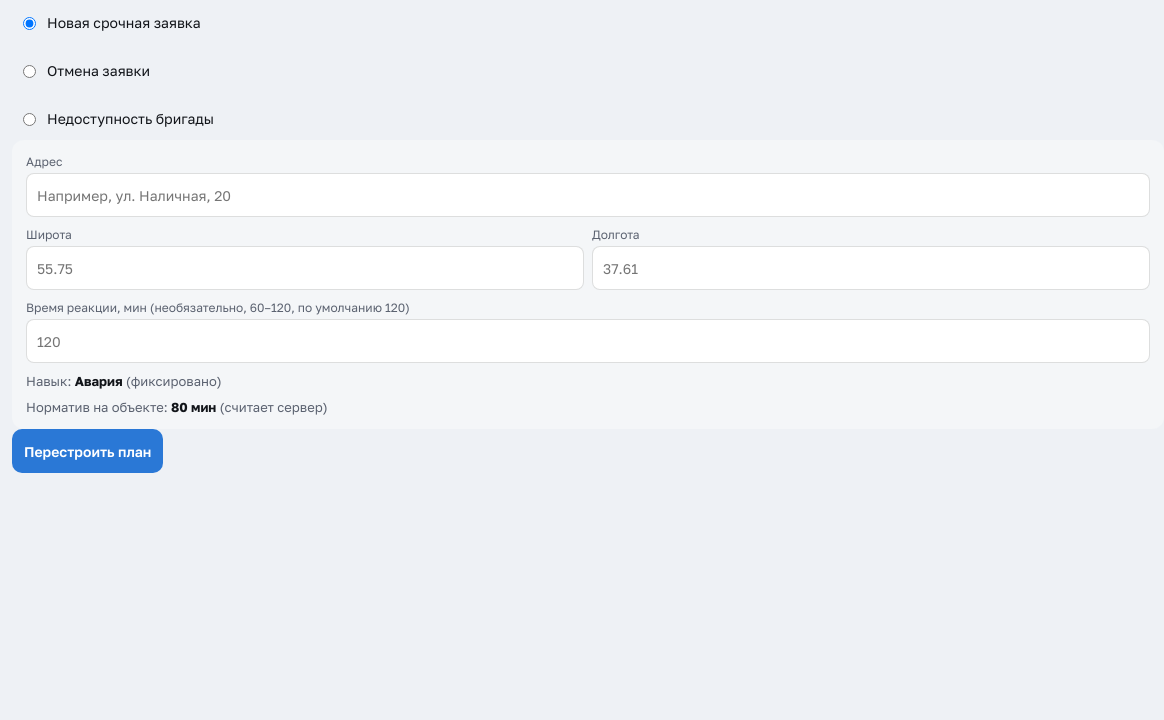
Test: ReplanTab — engineer_unavailable › shows a 404 as "not found" when the engineer does not exist
This screenshot has width=1164, height=720.
Click the radio button labelled "Недоступность бригады". click: (30, 120)
box: [23,113,36,126]
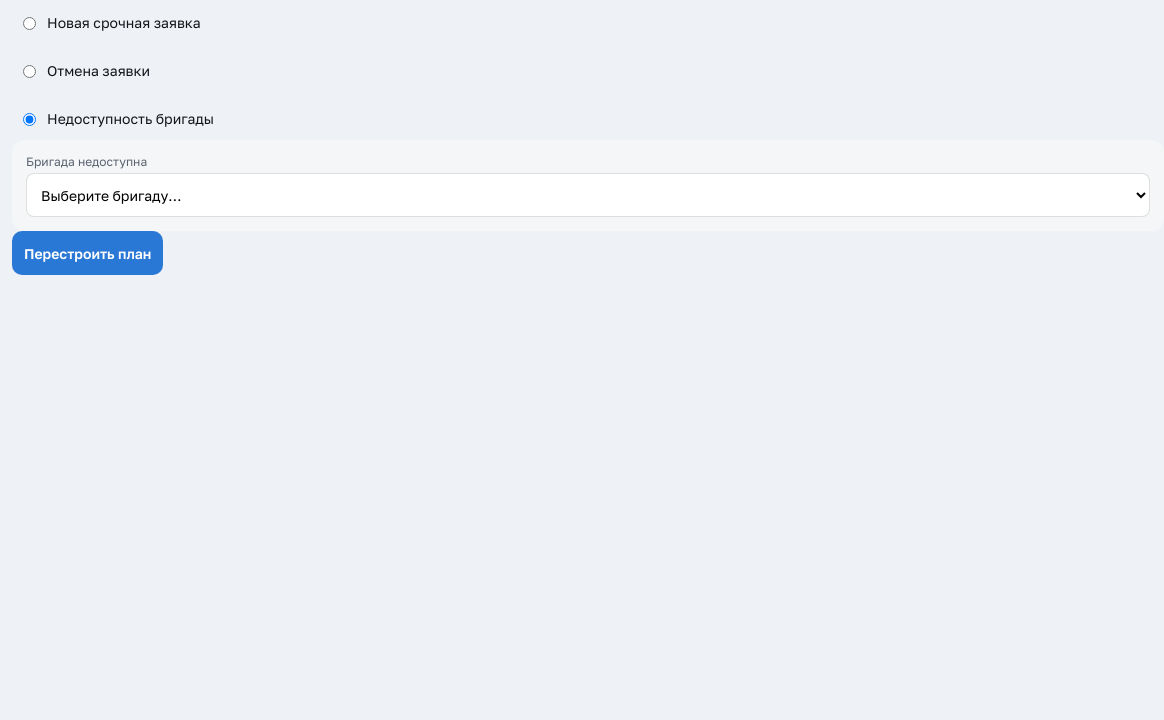
Select "Бригада Соколов" in the dropdown labelled "Бригада недоступна". click: (588, 195)
box: [26,173,1150,217]
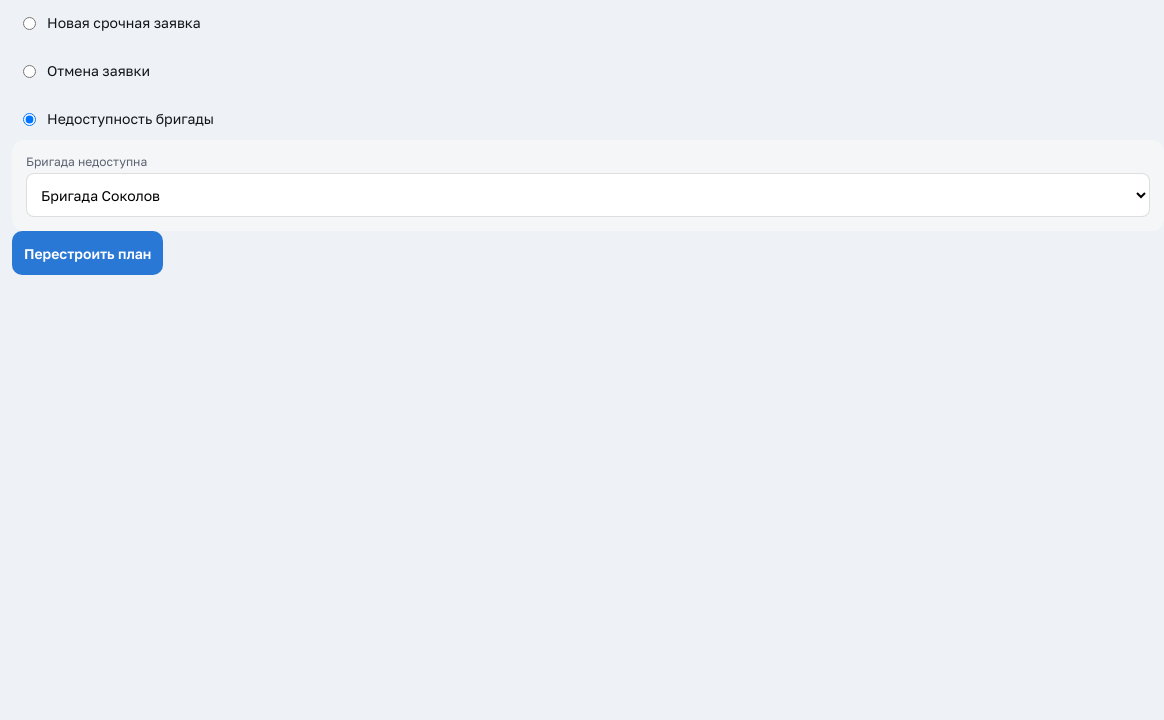
Click the button "Перестроить план". click: (88, 253)
box: [12,231,163,275]
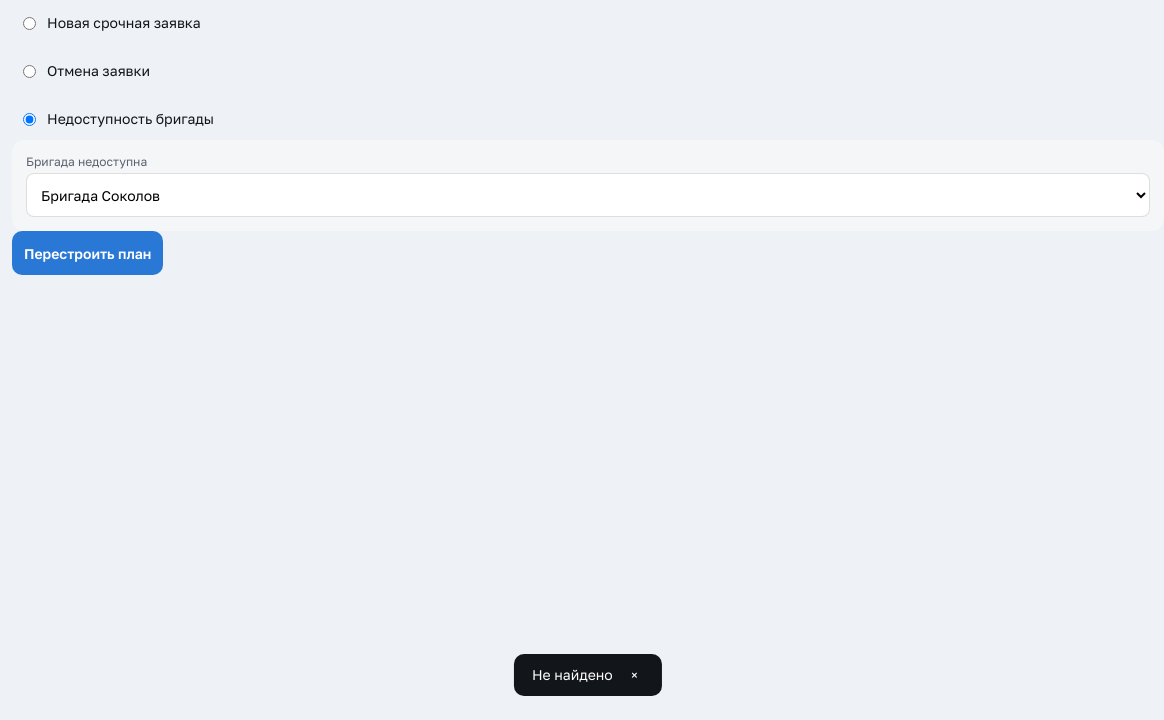
Expected: the text "Не найдено" is shown, [532,666,613,683]
